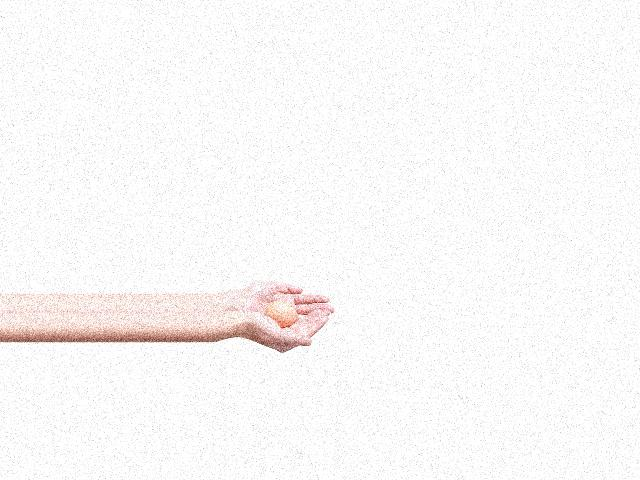egg: (267, 302, 297, 327)
